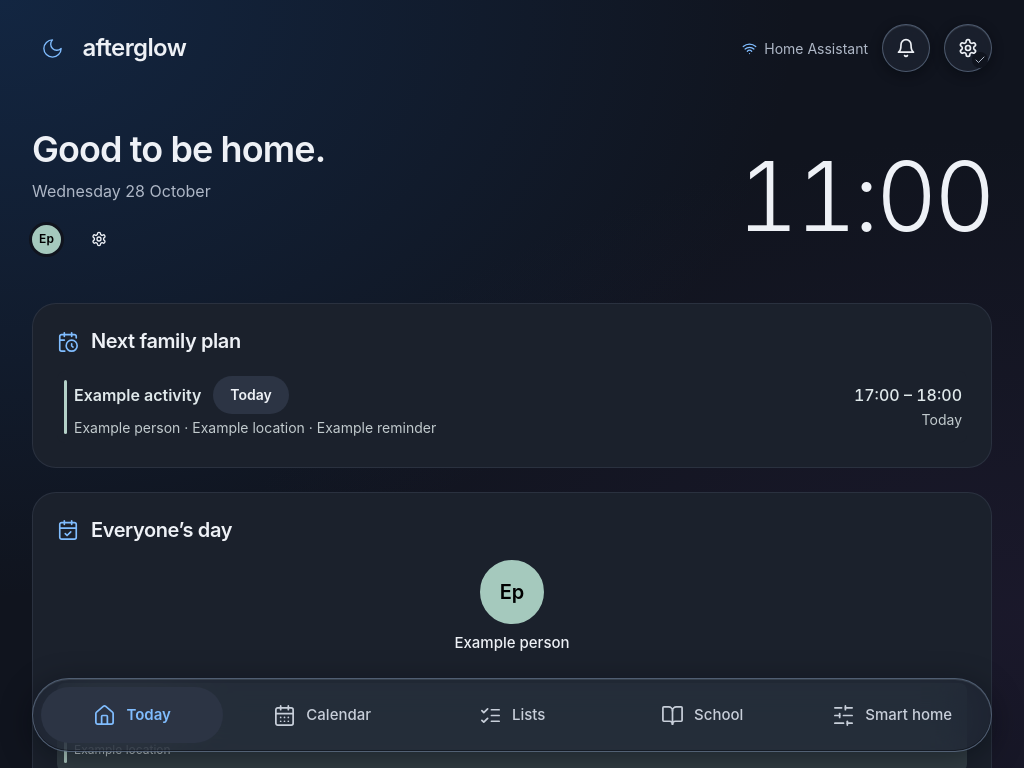
explains the next family plan in en on 2026-10-28 (auto, tomorrow false)
expect the heading "Next family plan" is shown: met, box [57, 329, 241, 353]
expect the heading "Example activity" is shown: met, box [74, 385, 201, 406]
Click the text "17:00 – 18:00".
click(908, 395)  # box [854, 384, 962, 406]
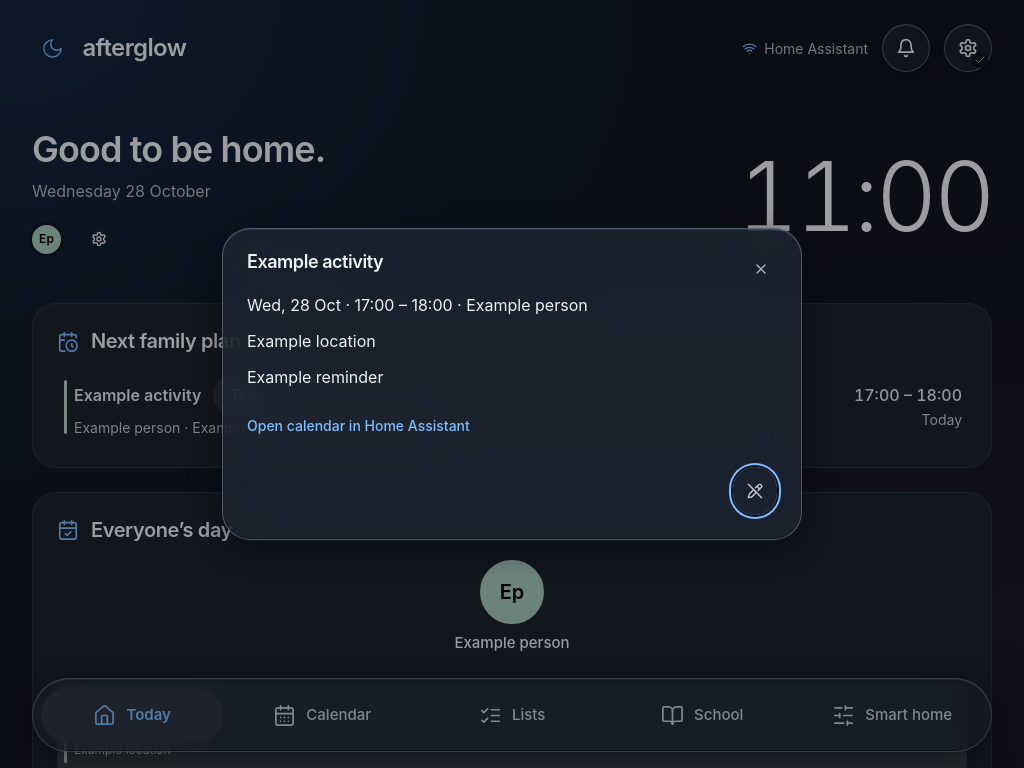
expect the dialog "Example activity" is shown: met, box [222, 228, 802, 540]
